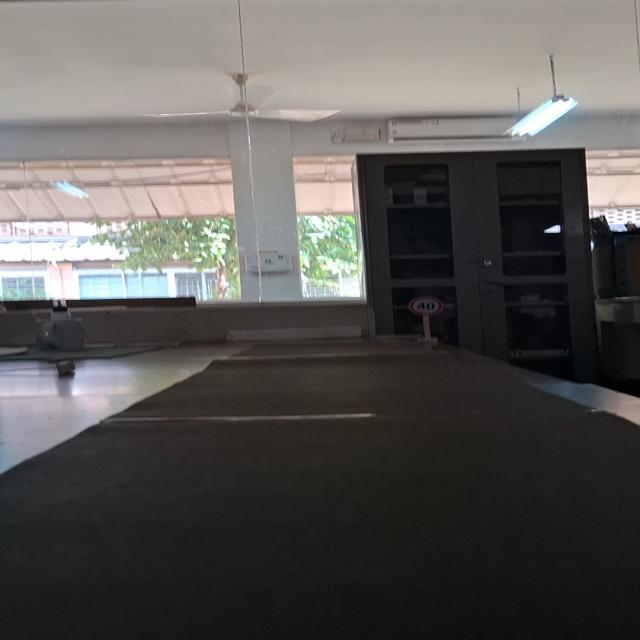Speed40: (407, 295, 445, 317)
